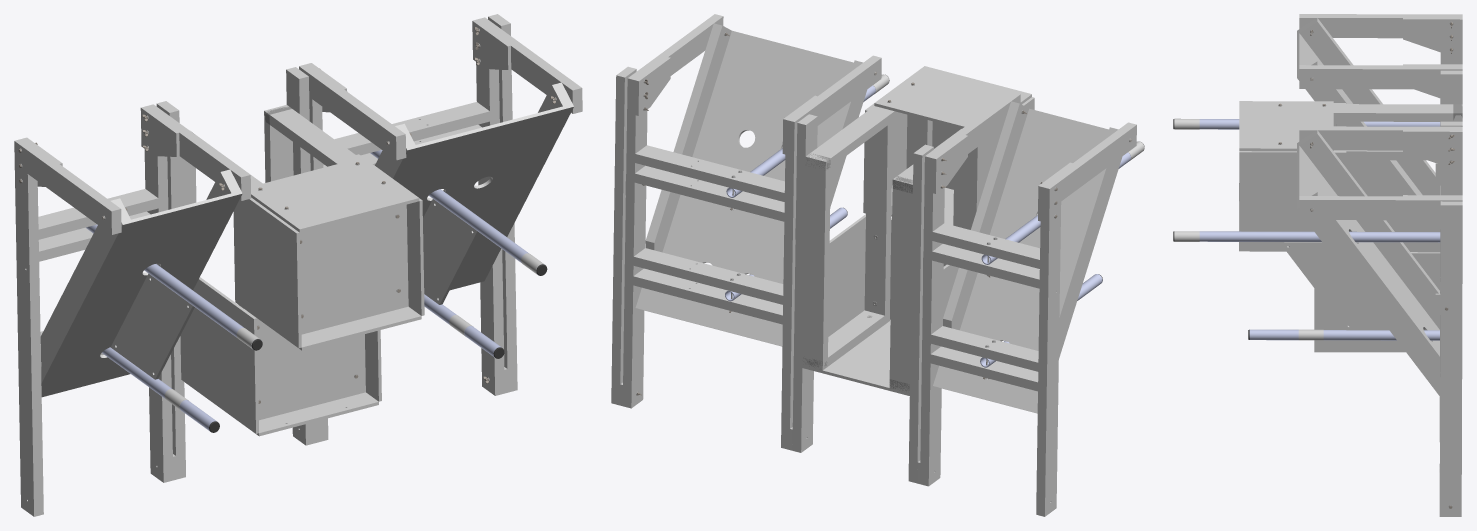
File: Full Grid.fbx
3 renders of one model, left to right at view 1: azimuth 30°, elevation 25°; view 2: azimuth 150°, elevation 25°; view 3: azimuth 270°, elevation 25°, orthographic. The views are drawn at different scales.
Visible parts, largest first — view 1: Body1 (×37); view 2: Body1 (×41); view 3: Body1 (×27).
Part boxes in pixels (x1,y1,x2,y2): Body1 (×37): (14,14,582,516); Body1 (×41): (611,14,1136,516); Body1 (×27): (1199,14,1462,516).
Bounding box in the file's own units: 76.03 × 55.59 × 46.05.
